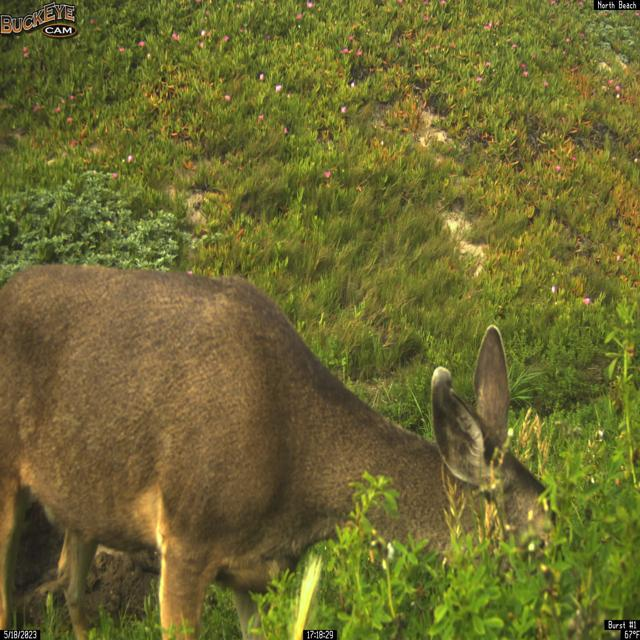deer: (0, 262, 560, 639)
